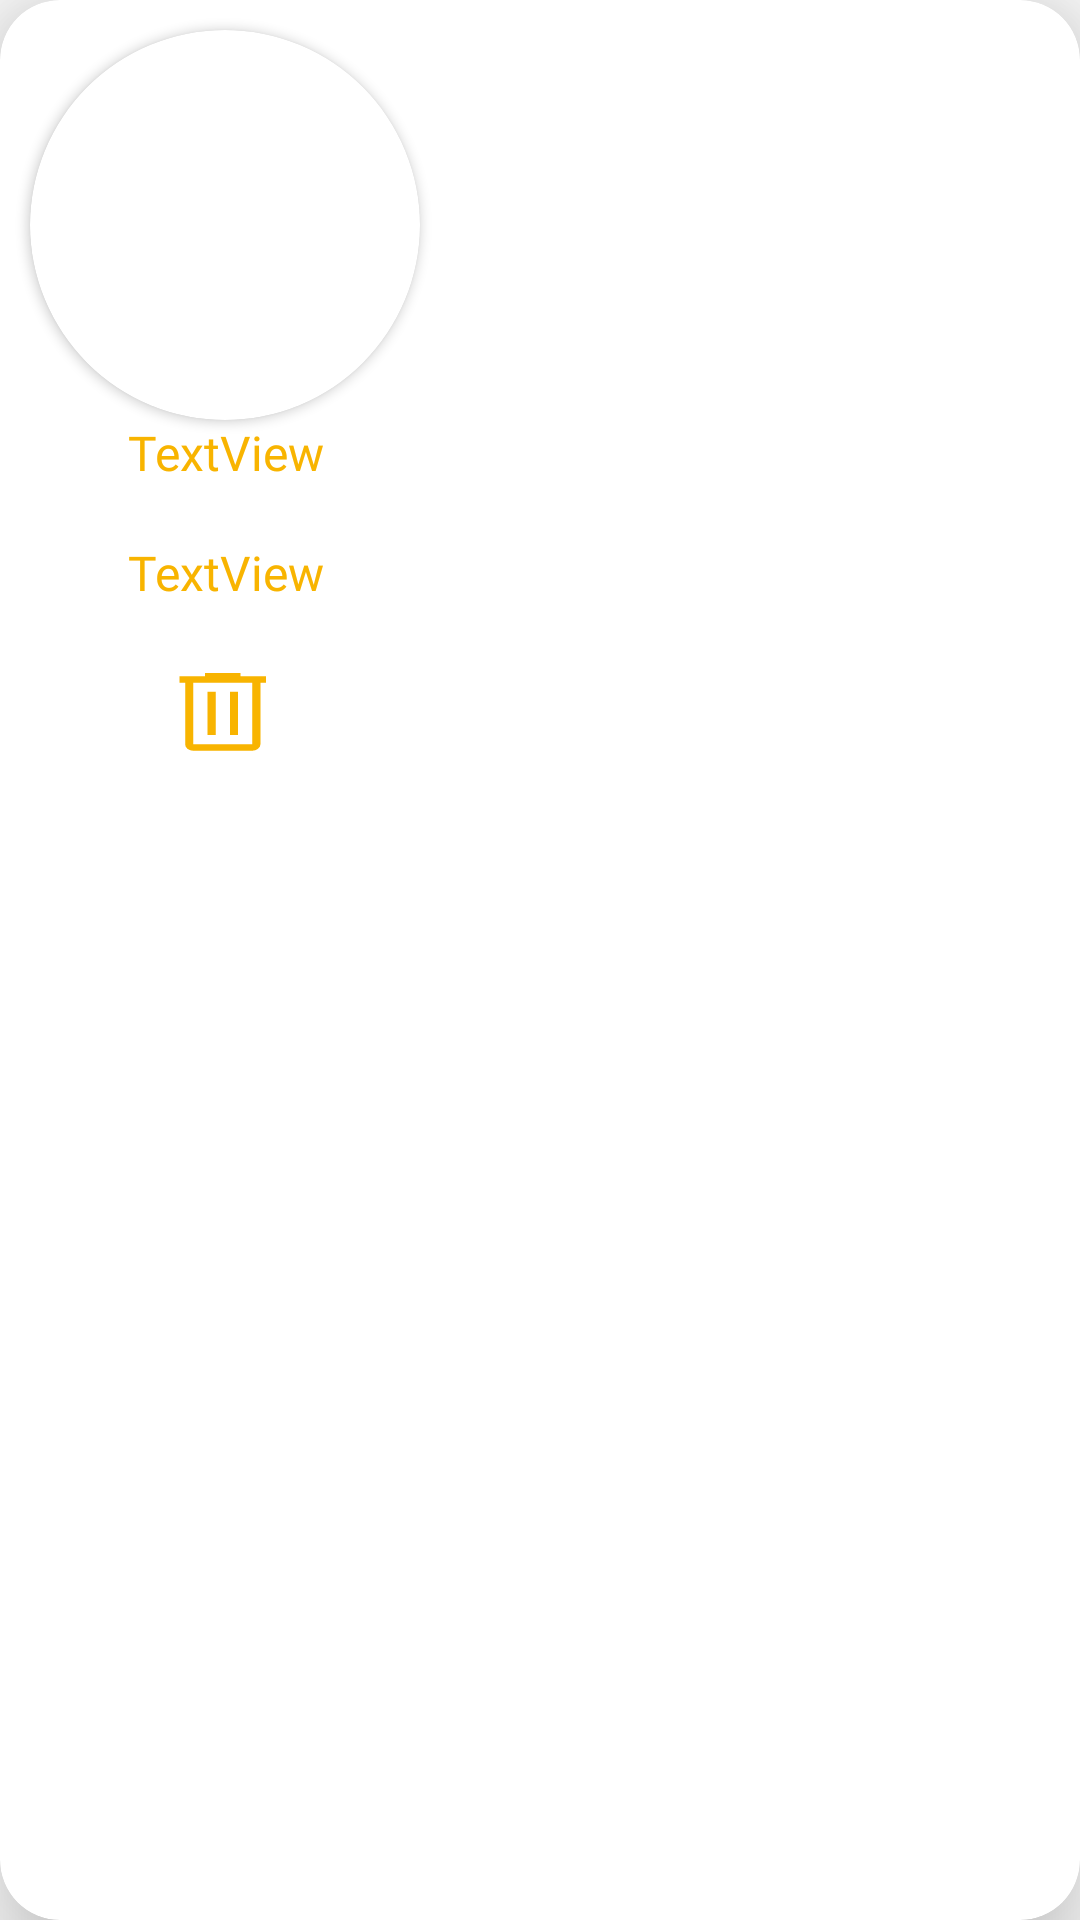

Named icons in this screenshot (1080×1920) and their bounding boxes, (x1, y1, x2, y2):
delete: (179, 673, 266, 751)
